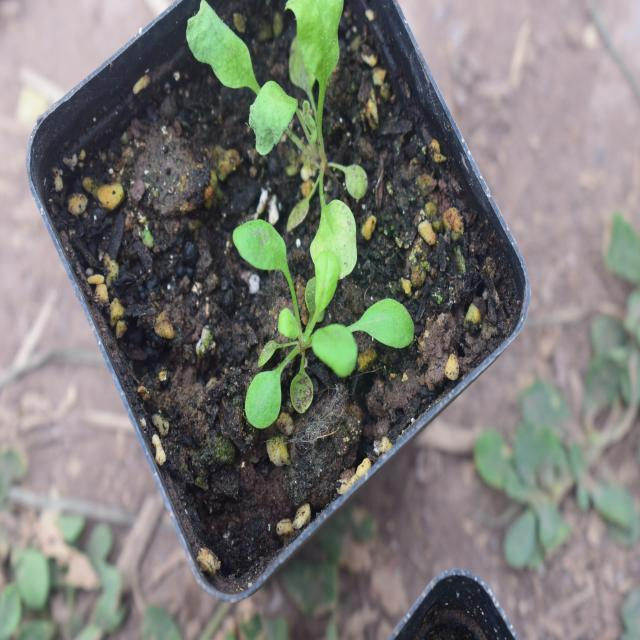Shepherd_Purse: (208, 179, 406, 421), (189, 0, 368, 171)
